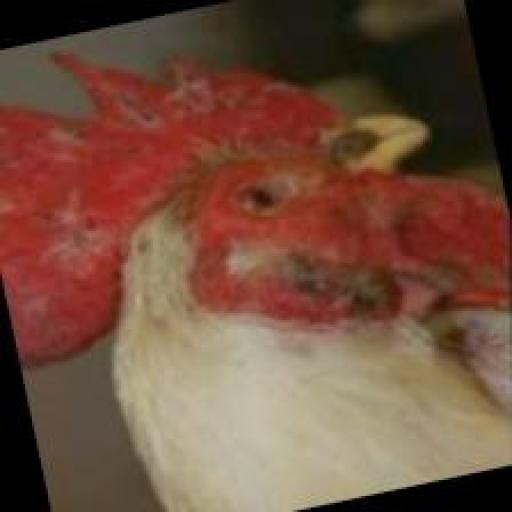disease: (42, 40, 318, 154), (3, 181, 127, 343), (192, 156, 359, 246), (382, 162, 495, 253)
